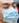with_mask: (1, 1, 19, 23)
